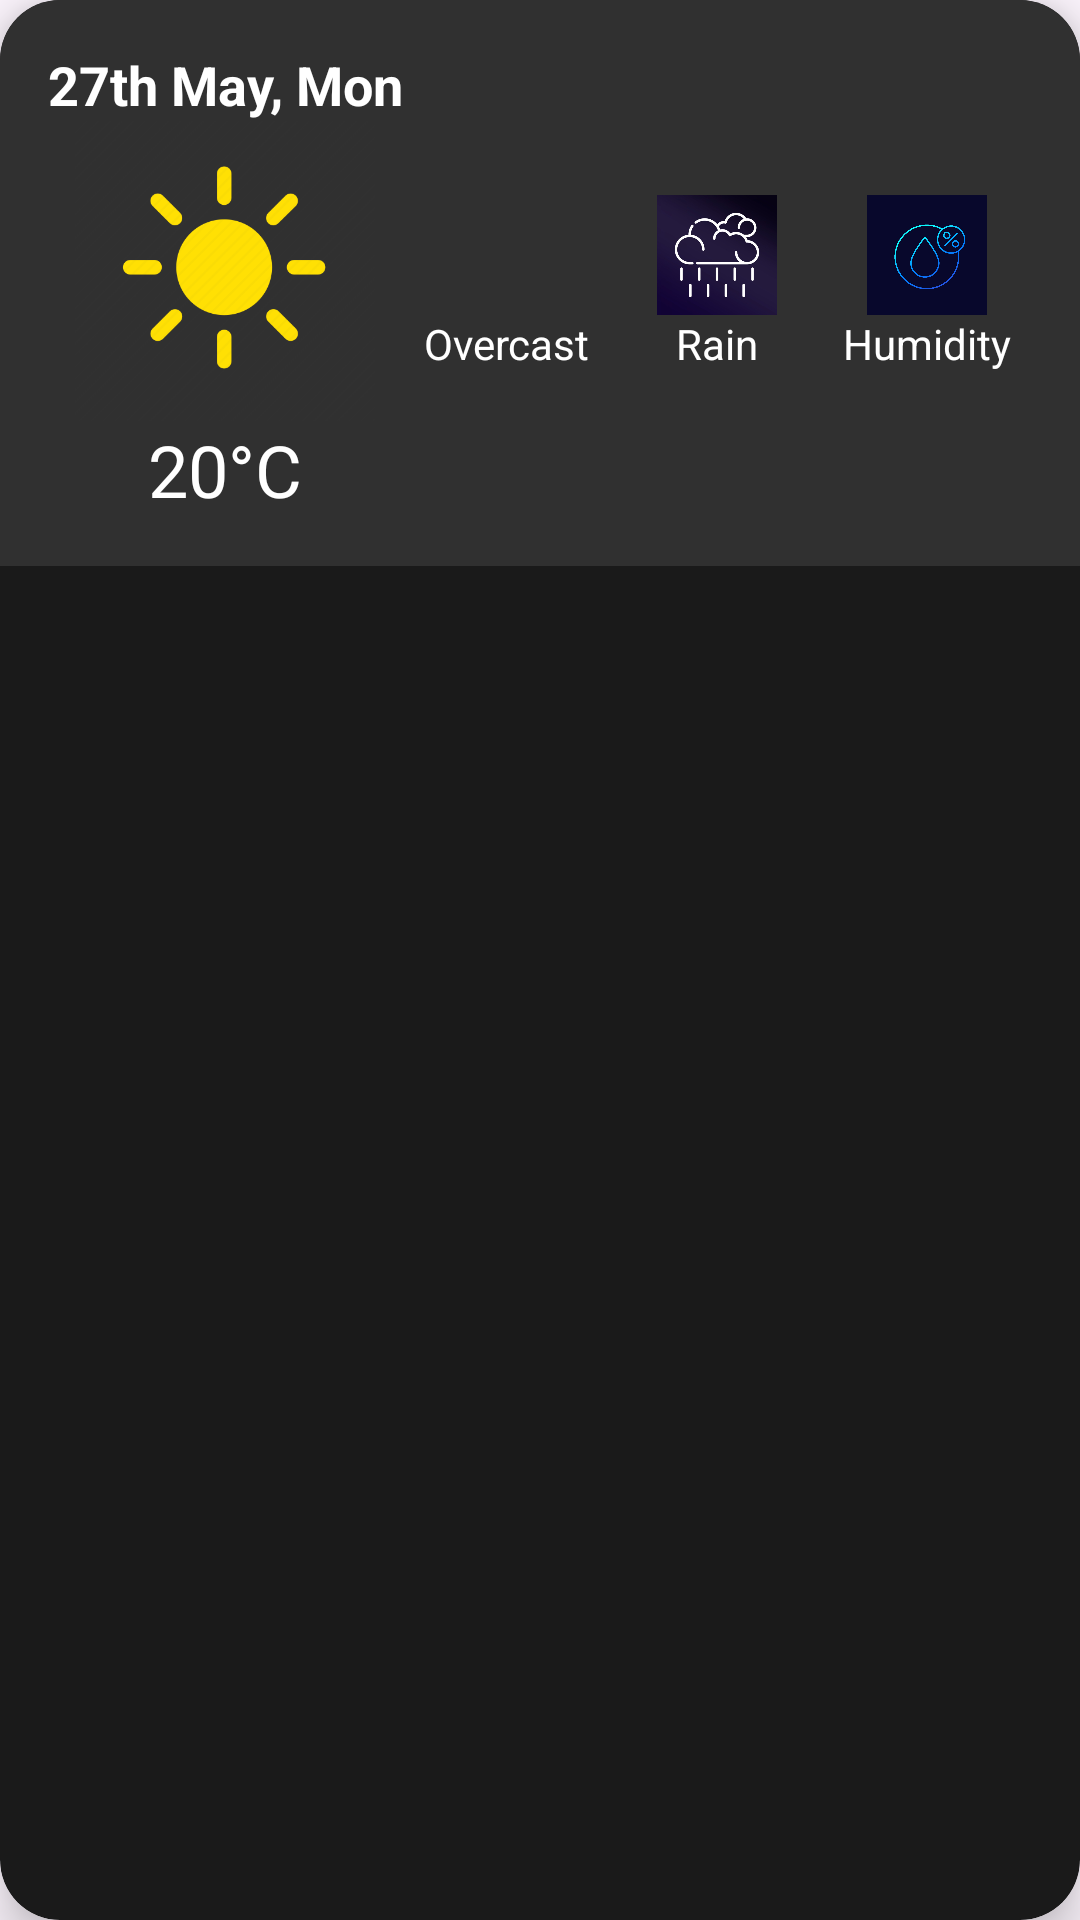

Icons on this 1080 × 1920 Android screen, each with the point to tap as point (x, y):
sun: point (224, 267)
